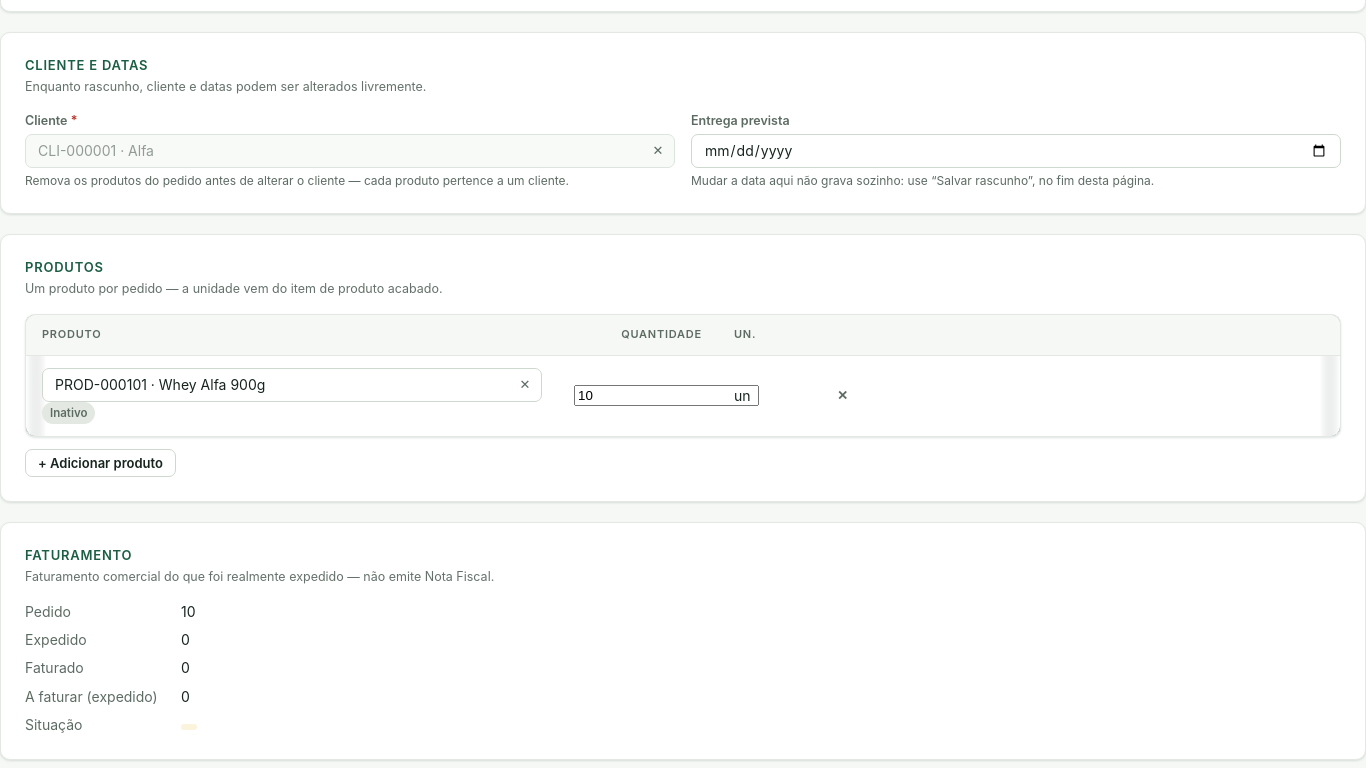
Pedido — produto ou PA inativado depois que a linha entrou › rascunho com produto inativo: a linha é marcada, o aviso diz que confirmar é recusado, e o botão segue
(page scrolled)
Expected: the text "Inativo" is shown once, [42,402,95,424]
Note: A opção do campo diz a situação, em vez de parecer um produto qualquer.
What coordinates should you click on to do the following:
click the 2nd dropdown
I would click on:
 (292, 385)
Its box is [42,368,542,402].
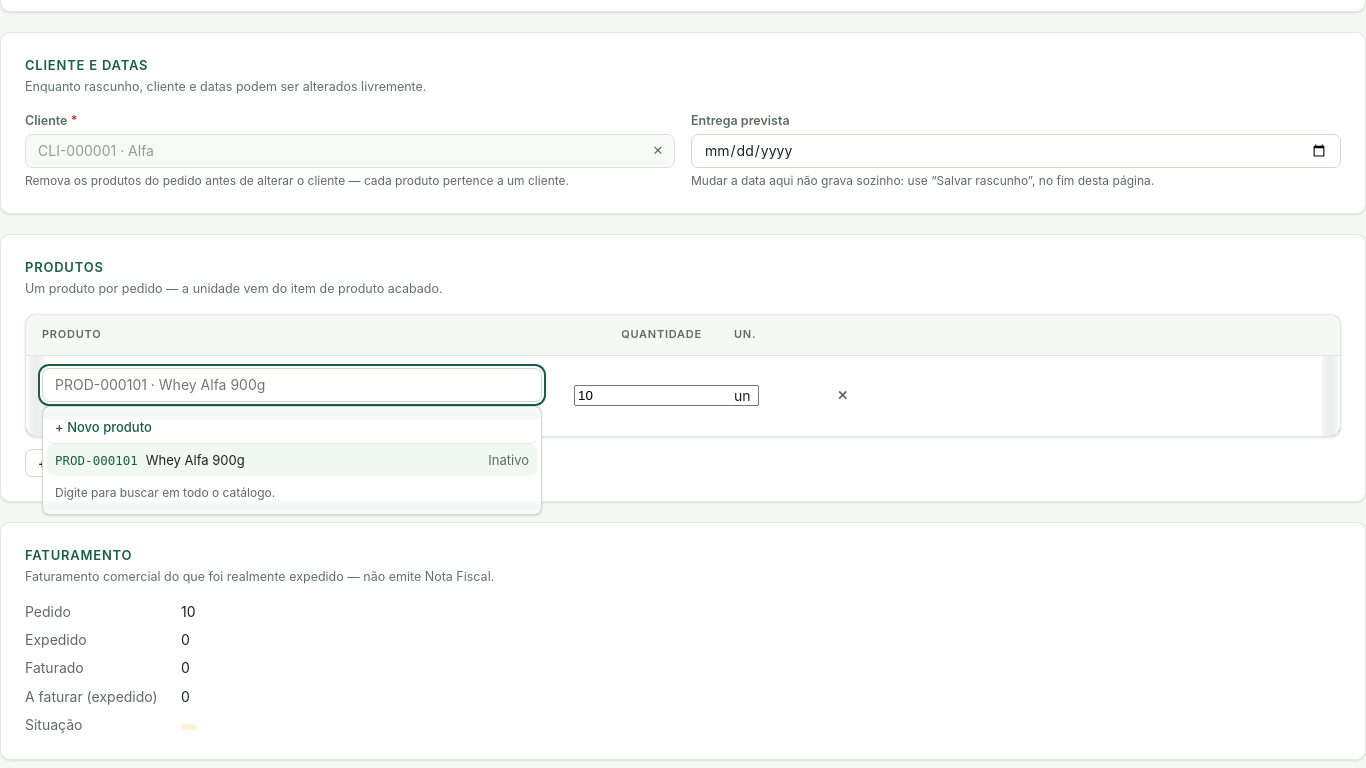
Now the text "Inativo" is shown, box [488,452,529,468]
